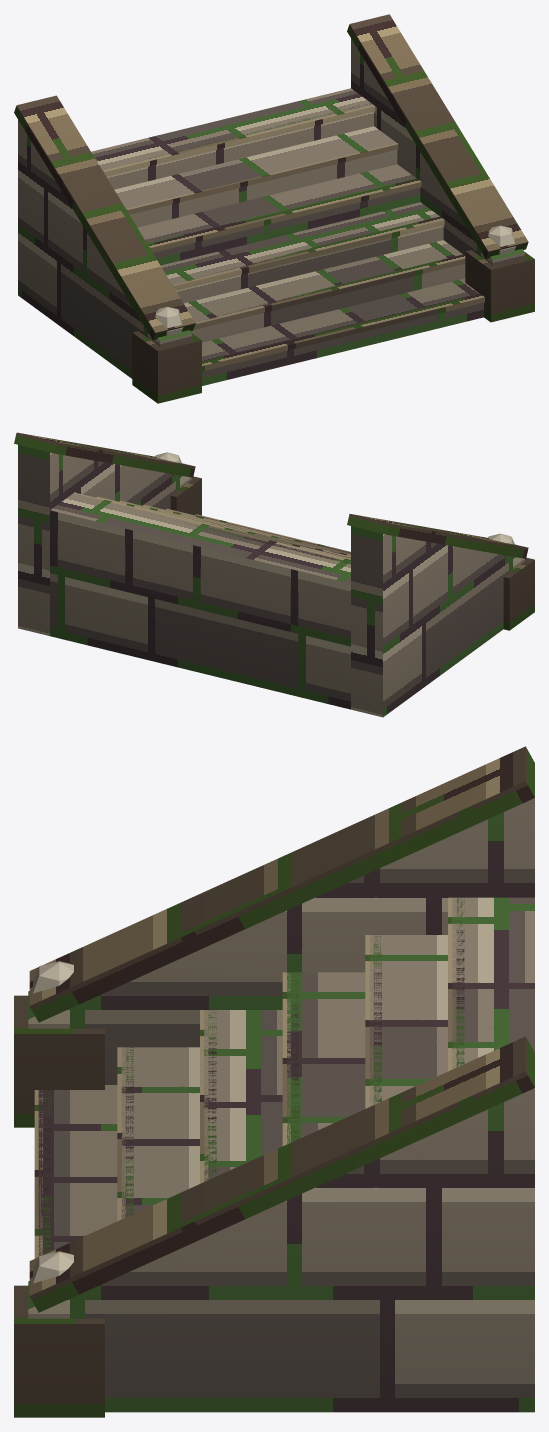
File: scene_stair_c9.glb
The picture shows the model from 3 angles, top to bottom: view 1: azimuth 30°, elevation 25°; view 2: azimuth 150°, elevation 25°; view 3: azimuth 270°, elevation 25°; orthographic projection. The views are drawn at different scales.
Parts seen in each view (by area): view 1: scene_stair_c9; view 2: scene_stair_c9; view 3: scene_stair_c9.
Boxes of the visible parts, box(x1,y1,x2,y2) form: scene_stair_c9: box(14, 14, 534, 403); scene_stair_c9: box(14, 432, 534, 717); scene_stair_c9: box(14, 746, 534, 1417).
Bounding box in the file's own units: 3.76 × 1.84 × 2.52.
2 materials, 1 textured.
